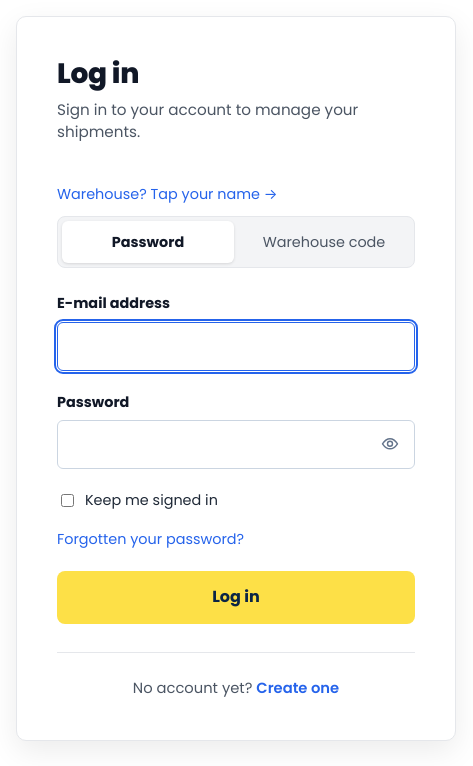
Login on a registered floor device › tells somebody with no PIN yet how to get one
Click the button "Warehouse? Tap your name →" at (167, 194), box [57,172,278,216]
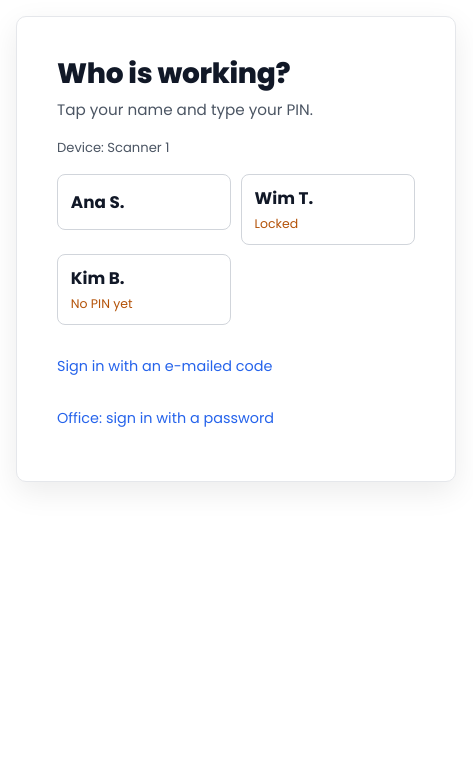
Click the button "Kim B. No PIN yet" at (144, 290), box [57,254,231,325]
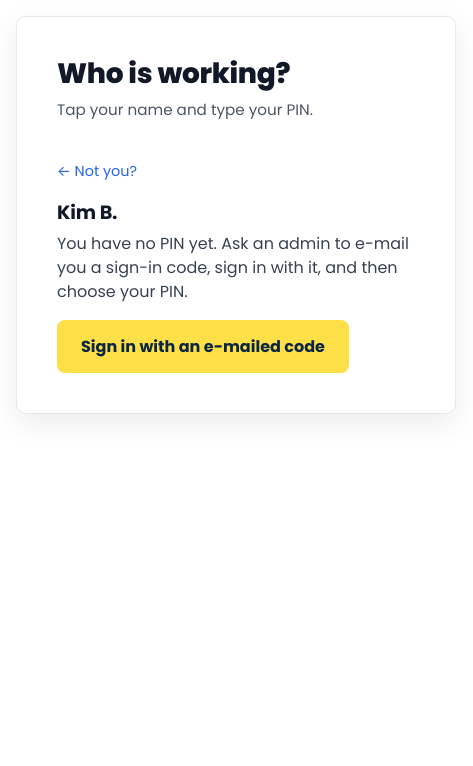
Check: the message shows "You have no PIN yet.", box [57,232,409,303]
